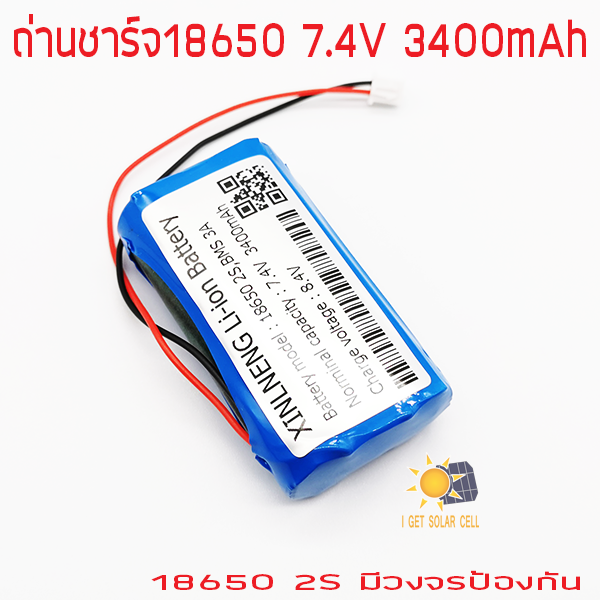Battery: (114, 136, 458, 508)
